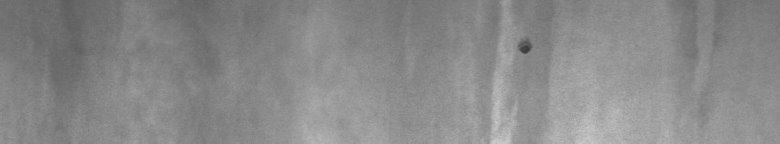fi: (488, 4, 536, 131)
